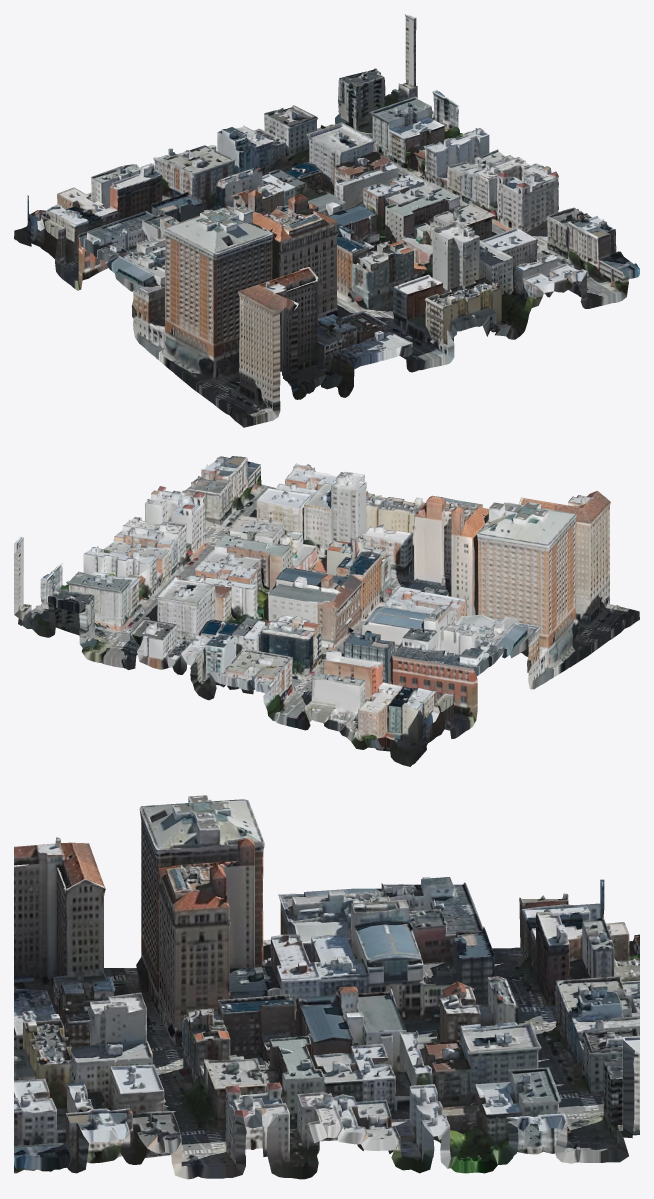
File: z17-20967-50655-h0-yup-uvflip-v3-world.glb
3 renders of one model, top to bottom at view 1: azimuth 30°, elevation 25°; view 2: azimuth 150°, elevation 25°; view 3: azimuth 270°, elevation 25°, orthographic. The views are drawn at different scales.
Bounding box in the file's own units: 242 × 88.32 × 243.
Materials: 1 (1 with a texture image).
